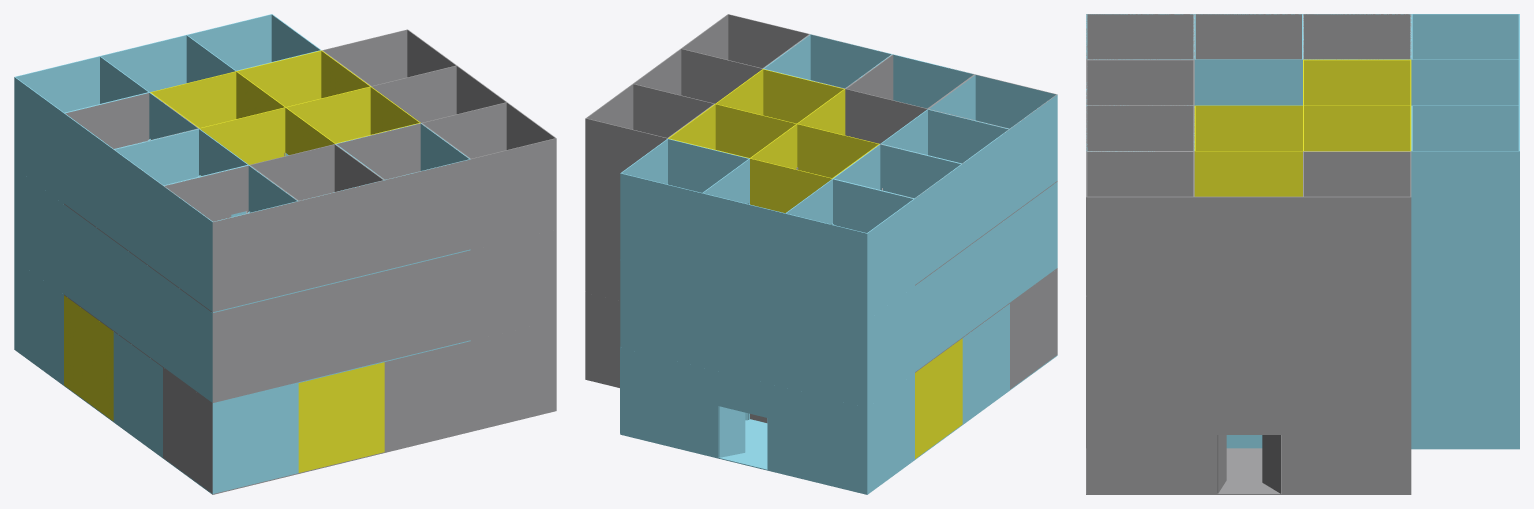
File: 第十三组.glb
The picture shows the model from 3 angles, left to right: view 1: azimuth 30°, elevation 25°; view 2: azimuth 150°, elevation 25°; view 3: azimuth 270°, elevation 25°; orthographic projection. The views are drawn at different scales.
Bounding box in the file's own units: 0.02 × 0.0151 × 0.02.
